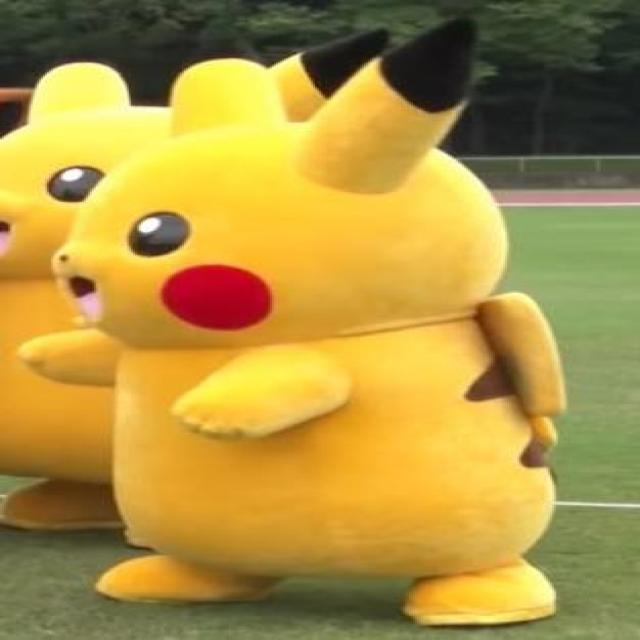pikachu: (21, 21, 566, 625)
